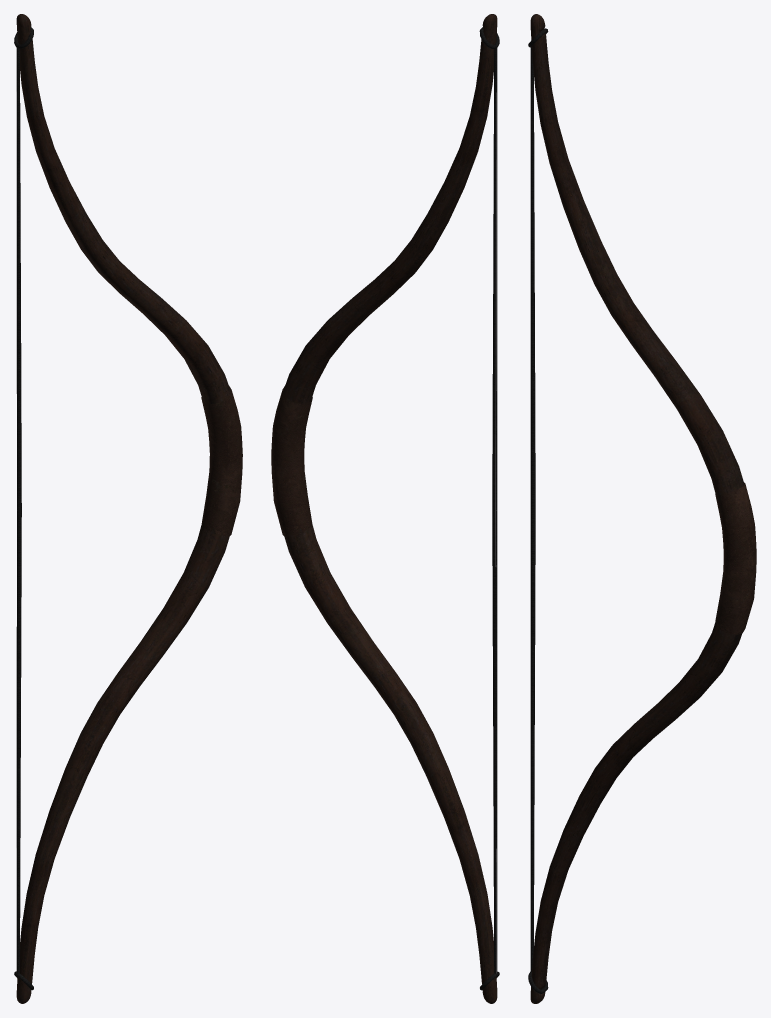
Rendered from wm_isengard_bow_a01.fbx.
3 renders of one model, left to right at view 1: azimuth 30°, elevation 25°; view 2: azimuth 150°, elevation 25°; view 3: azimuth 330°, elevation 25°, orthographic.
Visible parts, largest first — view 1: wm_isengard_bow_a01; view 2: wm_isengard_bow_a01; view 3: wm_isengard_bow_a01.
Boxes of the visible parts, x1,y1,x2,y2 form: wm_isengard_bow_a01: (14,14,242,1003); wm_isengard_bow_a01: (271,14,499,1003); wm_isengard_bow_a01: (528,14,756,1003).
Size of the model in its own units: 0.3112 by 0.0441 by 1.31.
1 material, 1 textured.
